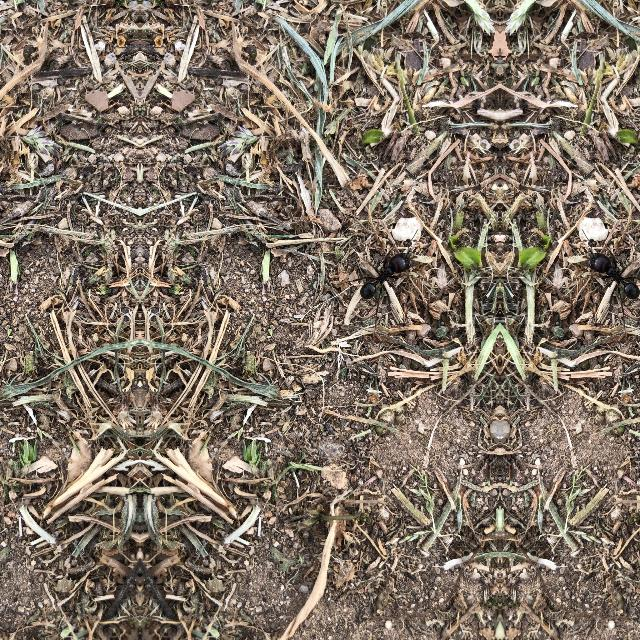Messor: (342, 236, 418, 314), (582, 236, 640, 313)
